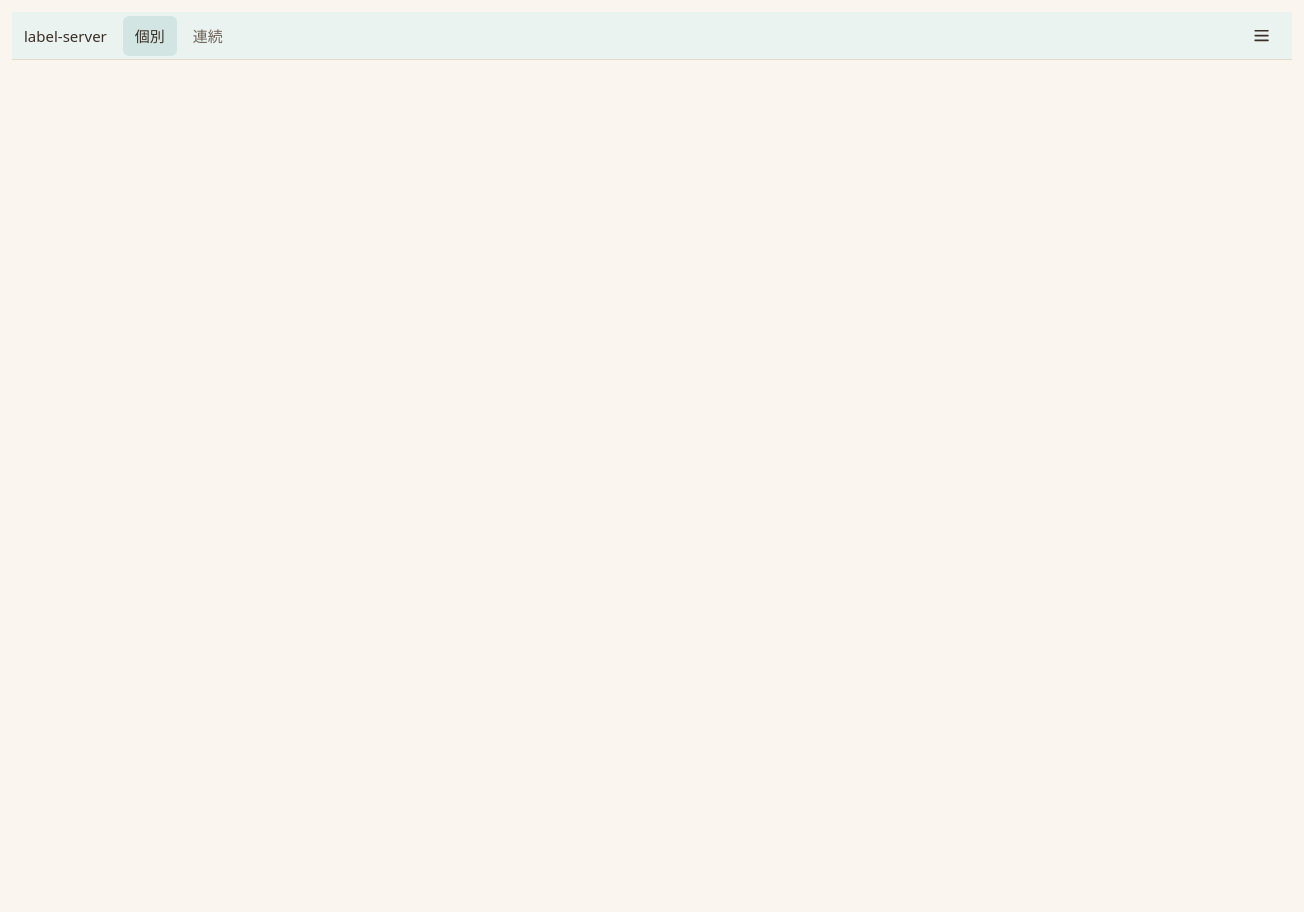
it: Header menu and theme flow › Escape and outside click close the dropdown and refocus
Click the button named "メニュー": click(1262, 36) top-left (1244, 18), bottom-right (1280, 54)
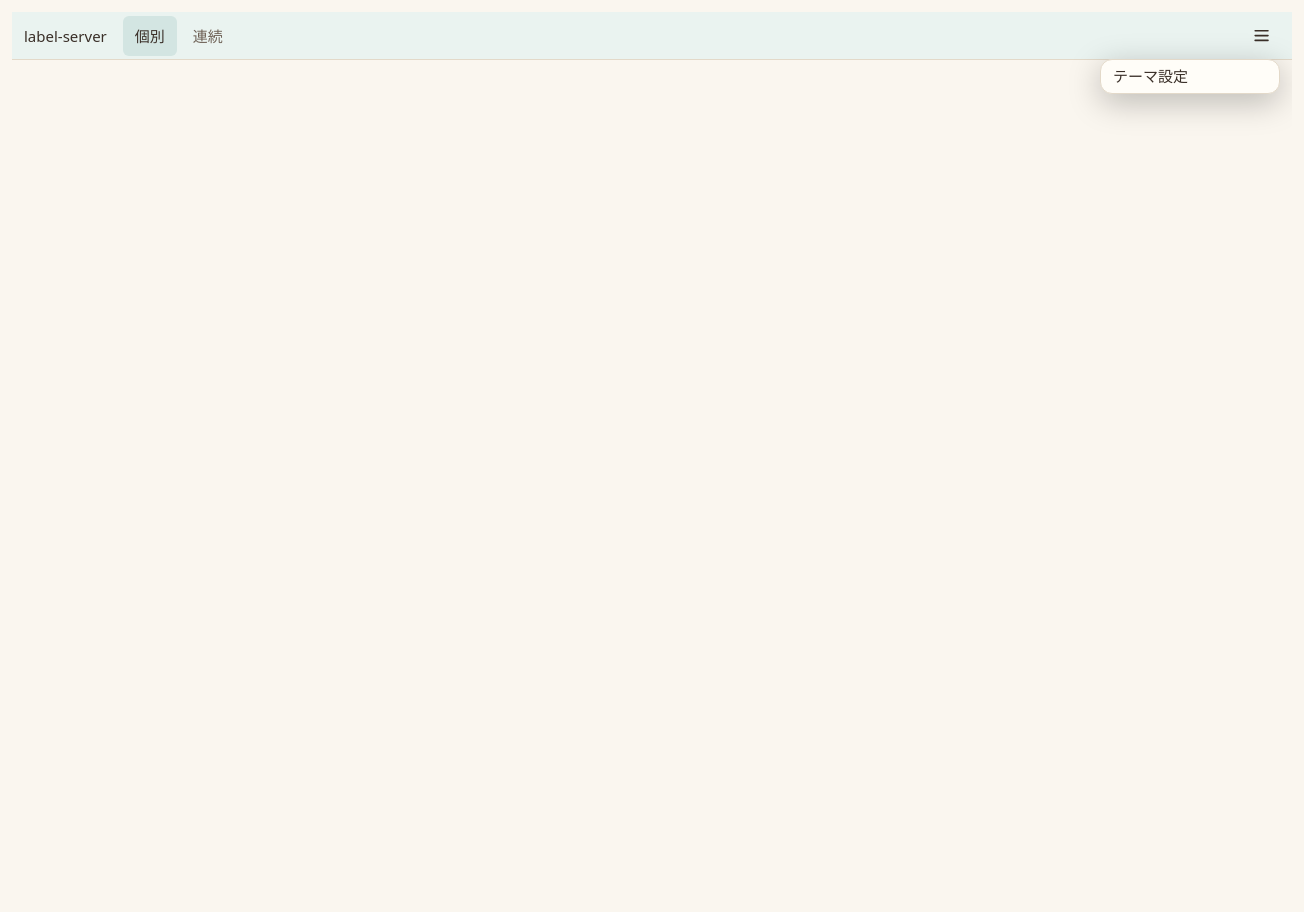
Press Escape
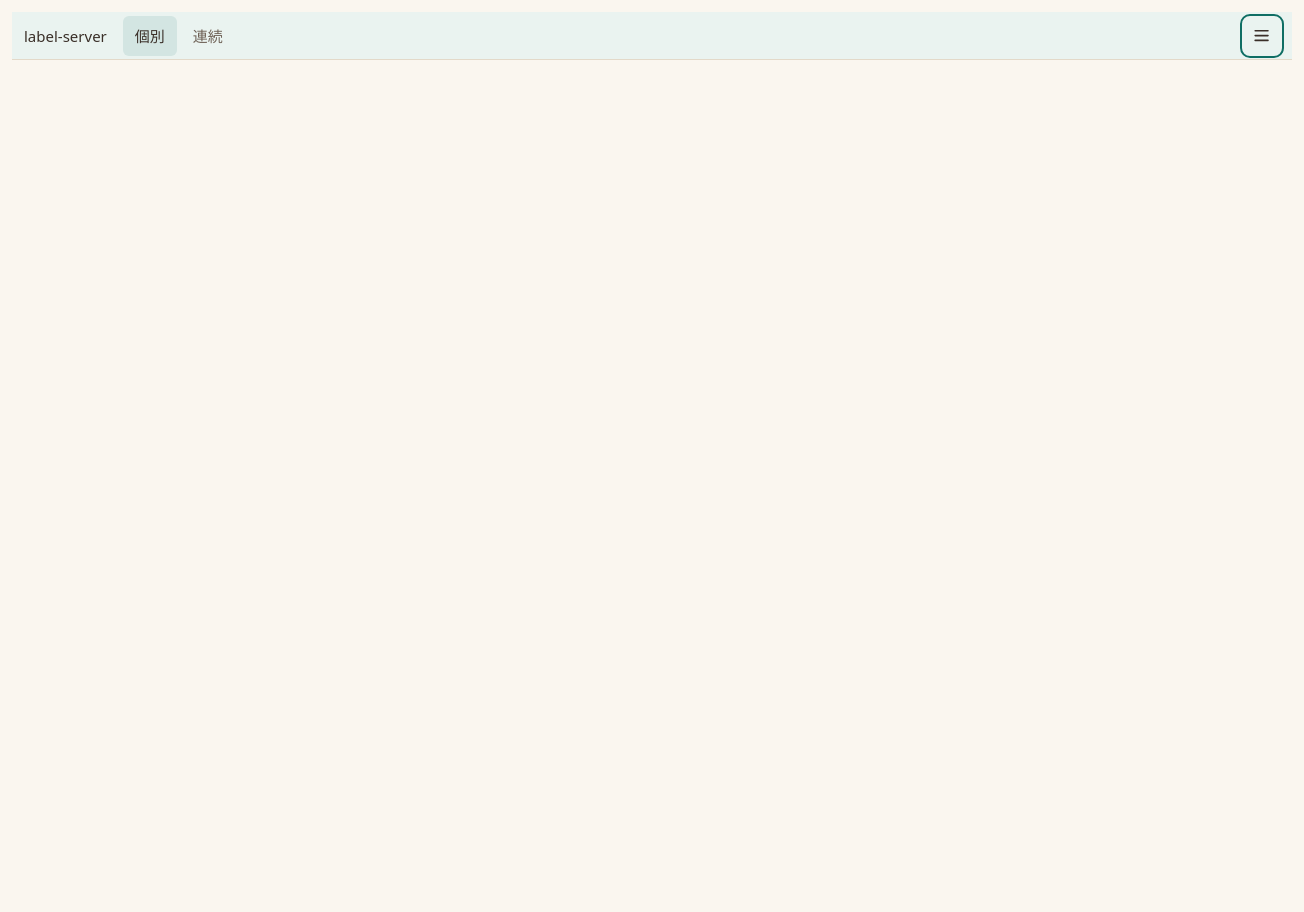
Check: the navigation bar "テーマ設定" is gone
Click the button named "メニュー": click(1262, 36) top-left (1244, 18), bottom-right (1280, 54)
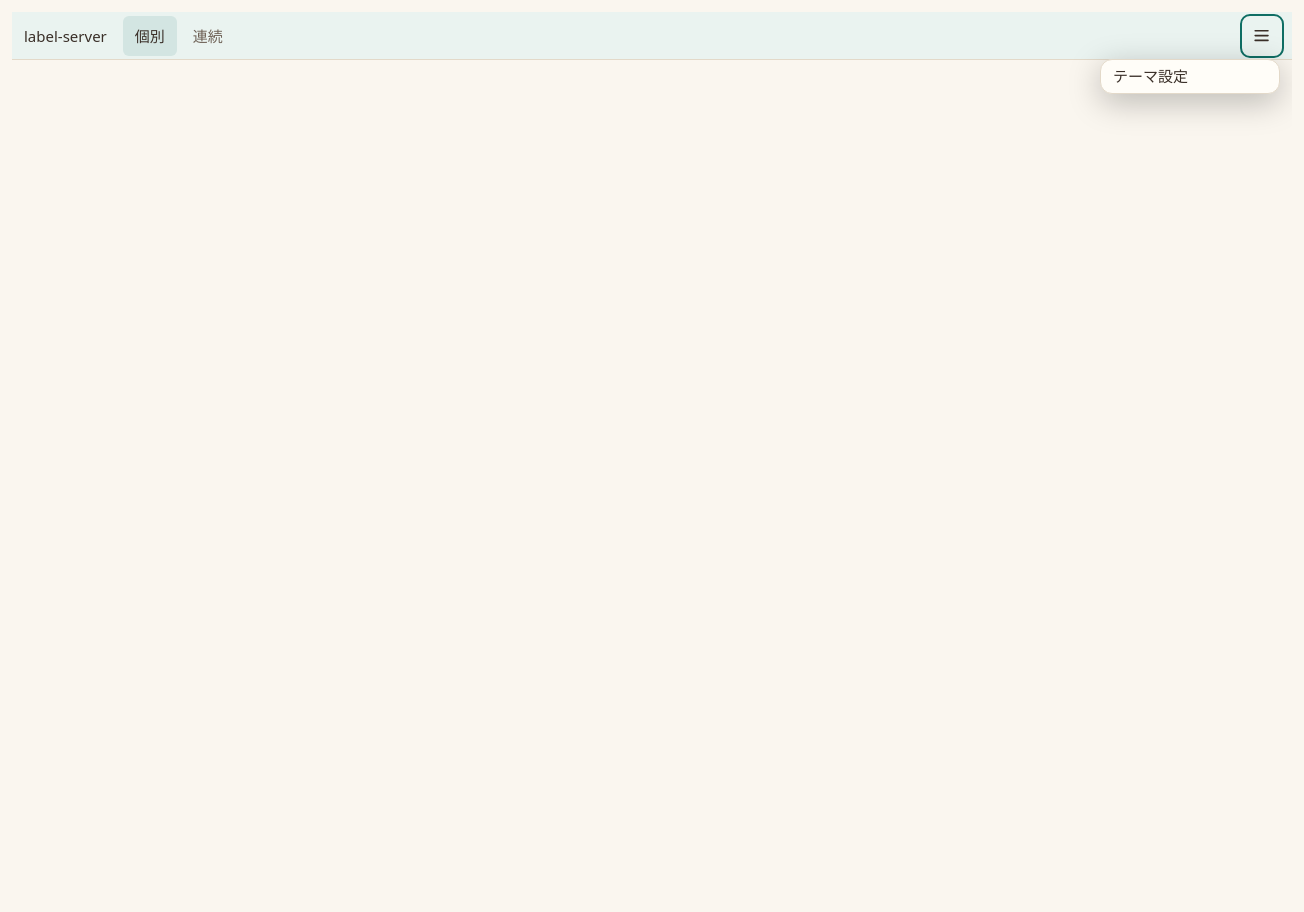
Click the button named "メニューを閉じる": click(652, 462) top-left (12, 12), bottom-right (1292, 911)
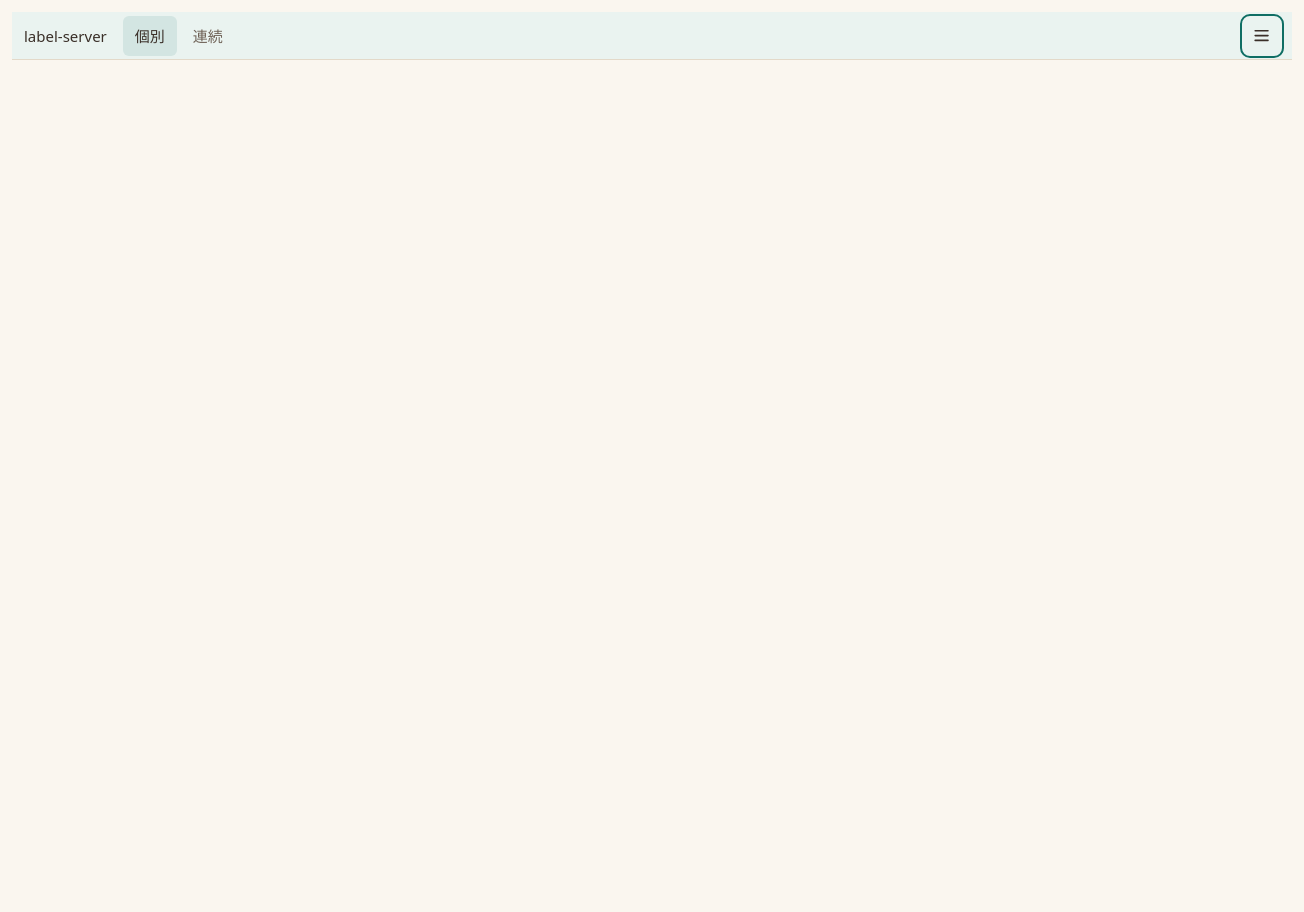
Check: the navigation bar "テーマ設定" is gone
